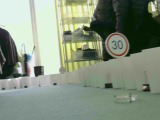speed_30: (101, 31, 131, 58)
